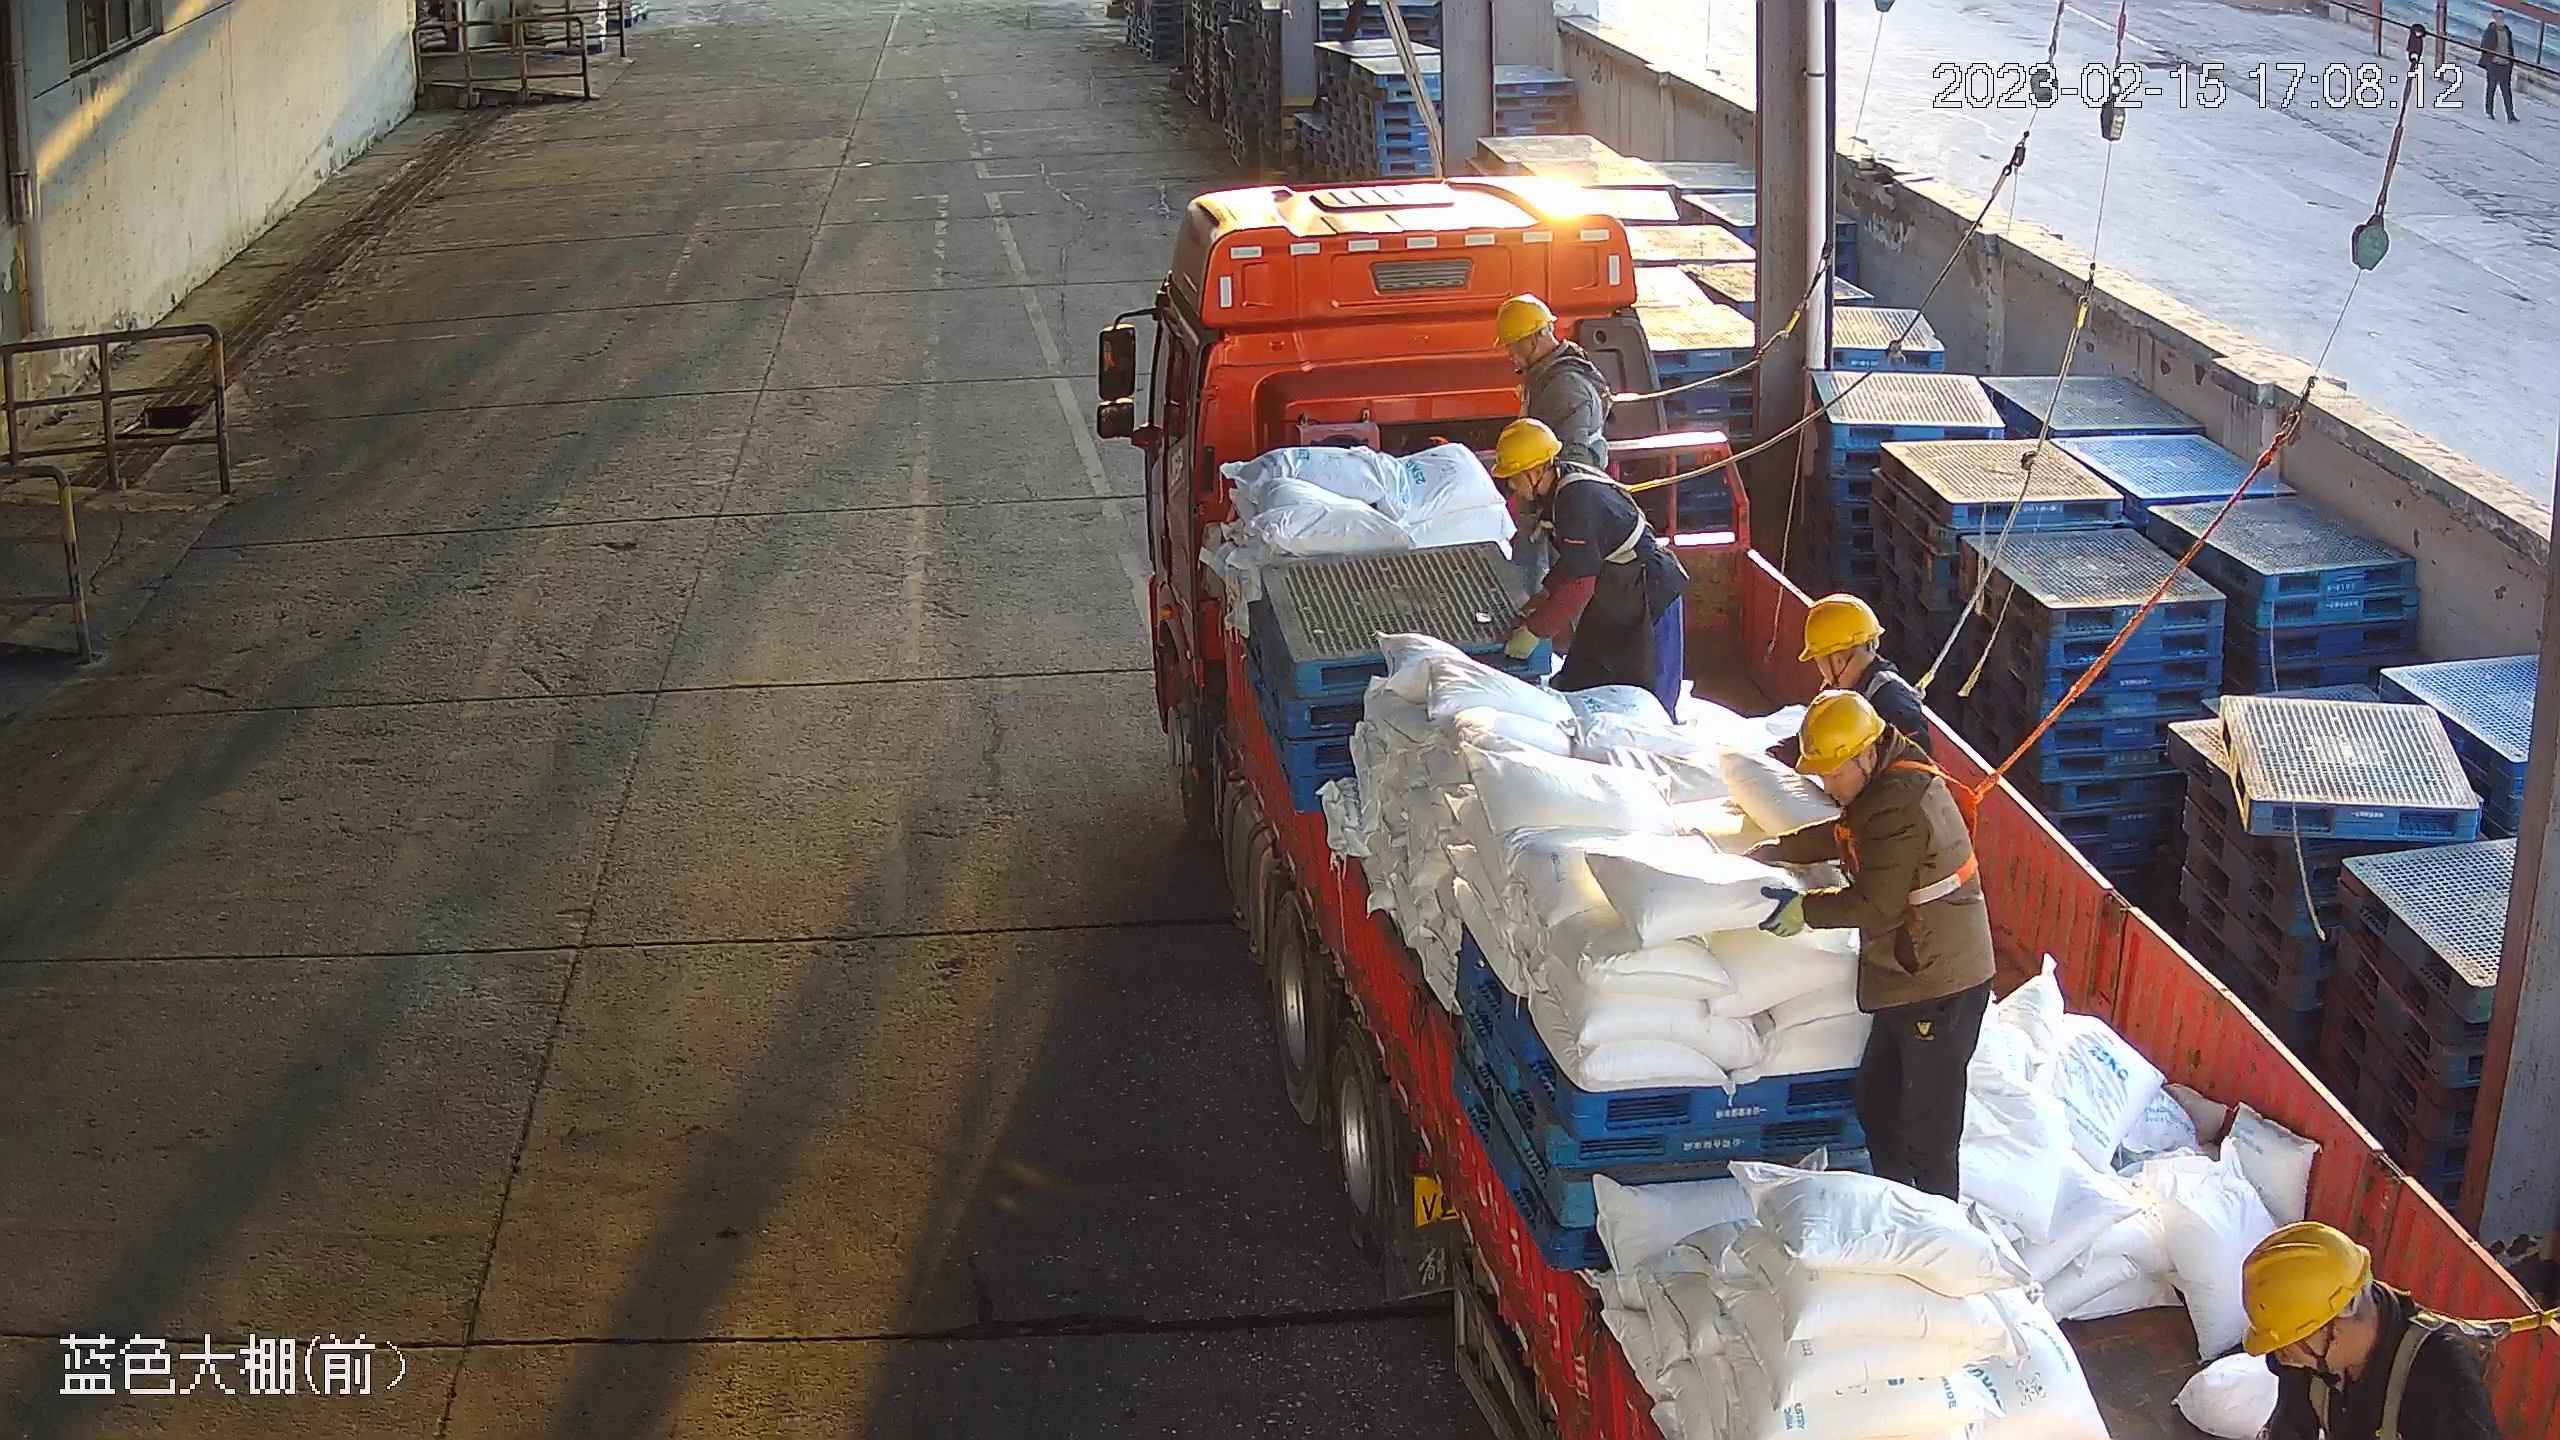belt: (1833, 755, 1997, 906), (1528, 460, 1652, 564), (1537, 342, 1637, 447), (1818, 670, 1933, 702)
head: (1792, 689, 1961, 843), (1488, 416, 1610, 530), (1489, 292, 1601, 404)
helmet: (2240, 1219, 2373, 1354), (1793, 689, 1886, 776), (1797, 591, 1886, 662), (1489, 417, 1563, 479), (1490, 292, 1558, 349)
people: (1739, 687, 1995, 1199), (1489, 417, 1691, 726)
truck: (1095, 176, 2560, 1440)
